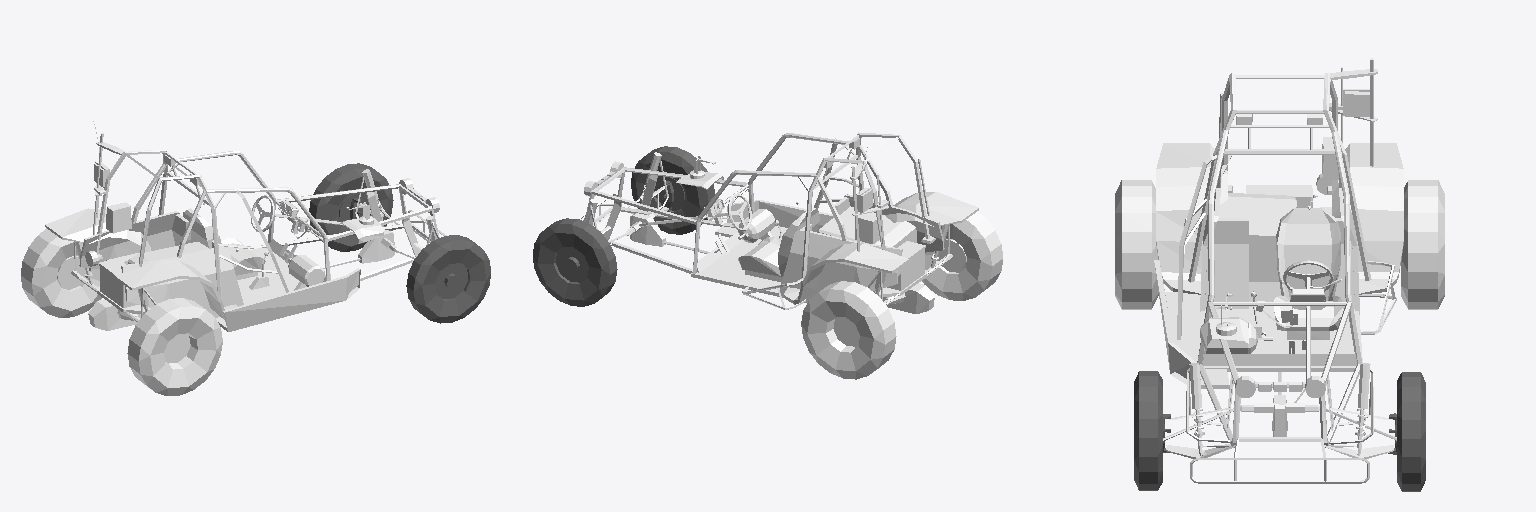
The robot description file, URDF, robot "buggy":
<robot name="buggy">
  <link name="base_link">
    <visual>
      <origin xyz="0 0 0" rpy="0 0 0" />
      <geometry>
        <mesh filename="package://hpp_environments/meshes/buggy/buggy_rearwheel.dae"/>
      </geometry>
      <material name="white">
        <color rgba="1 1 1 1"/>
      </material>
    </visual>
    <collision>
      <origin xyz="0 0 0" rpy="0 0 0" />
      <geometry>
        <mesh filename="package://hpp_environments/meshes/buggy/buggyBB.dae"/>
      </geometry>
    </collision>
  </link>
  <joint name="wheel_frontright_joint" type="revolute">
    <axis xyz="0 0 1"/>
    <limit effort="10" velocity="1" lower="-1" upper="1"/>
    <origin xyz="1.35943 -0.365 0.21227" rpy="0 0 0"/>
    <!--<origin xyz="1.35943 -0.34162 0.21227" rpy="0 0 0"/>-->
    <parent link="base_link"/>
    <child link="wheel_frontright"/>
  </joint>
  <joint name="wheel_frontleft_joint" type="revolute">
    <axis xyz="0 0 1"/>
    <limit effort="10" velocity="1" lower="-1" upper="1"/>
    <origin xyz="1.35943 0.345 0.21227" rpy="0 0 0"/>
    <!--<origin xyz="1.35943 0.34162 0.21227" rpy="0 0 0"/>-->
    <parent link="base_link"/>
    <child link="wheel_frontleft"/>
  </joint>
  <link name="wheel_frontright">
    <visual>
      <origin xyz="0 0 0" rpy="0 0 0" />
      <geometry>
        <mesh filename="package://hpp_environments/meshes/buggy/wheel_frontright.dae"/>
      </geometry>
    </visual>
  </link>
  <link name="wheel_frontleft">
    <visual>
      <origin xyz="0 0 0" rpy="0 0 0" />
      <geometry>
        <mesh filename="package://hpp_environments/meshes/buggy/wheel_frontleft.dae"/>
      </geometry>
    </visual>
  </link>
</robot>

--- Facts derived from the render (not from the file) ---
3 views of the same robot in one strip: view 1: azimuth 30°, elevation 25°; view 2: azimuth 150°, elevation 25°; view 3: azimuth 270°, elevation 25° (orthographic).
Model buggy with 3 links and 2 joints (2 revolute), rooted at base_link, posed every joint at zero.
Links seen in each view (by area): view 1: base_link, wheel_frontright, wheel_frontleft; view 2: base_link, wheel_frontleft, wheel_frontright; view 3: base_link, wheel_frontleft, wheel_frontright.
Boxes of the visible links, box(x1,y1,x2,y2) form: base_link: box(21, 121, 446, 395); wheel_frontright: box(406, 235, 490, 323); wheel_frontleft: box(309, 163, 393, 251); base_link: box(578, 132, 1002, 379); wheel_frontleft: box(533, 218, 617, 306); wheel_frontright: box(631, 146, 714, 234); base_link: box(1115, 58, 1444, 483); wheel_frontleft: box(1388, 372, 1425, 491); wheel_frontright: box(1134, 371, 1170, 490).
Size in the robot's own frame: 1.77 by 1.04 by 0.9932 metres.
3 mesh visuals loaded from 3 distinct referenced files (3 Collada DAE).